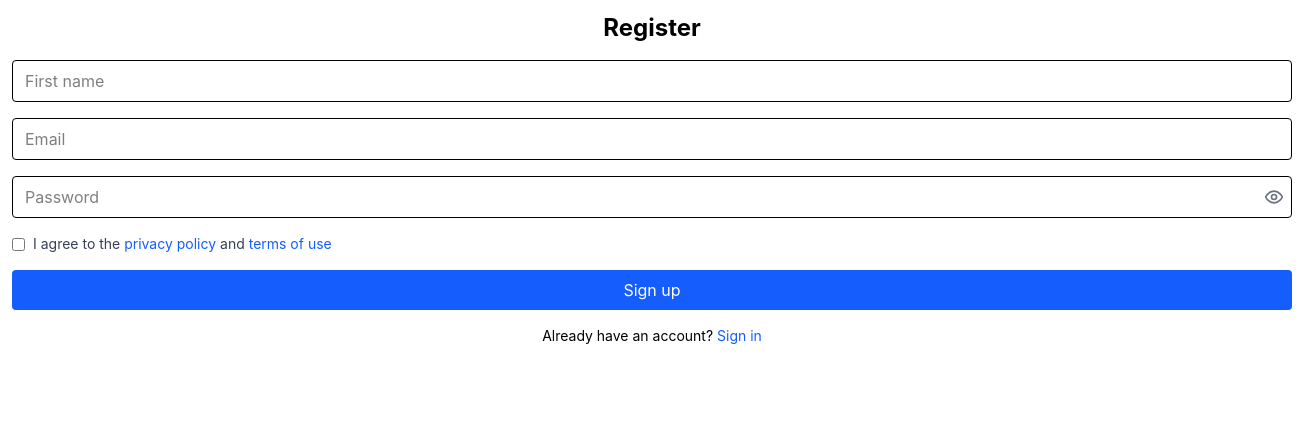
it: RegisterPage › shows validation error for short password
Type "1234567" into the password field with placeholder "Password" at (652,197), box [12,176,1292,218]
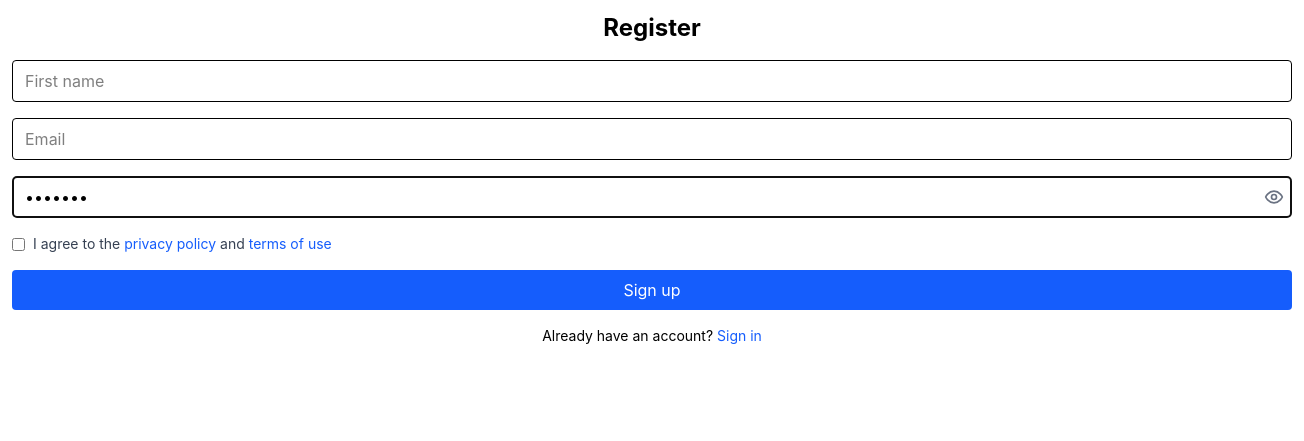
Click the button "Sign up" at (652,290), box [12,270,1292,310]
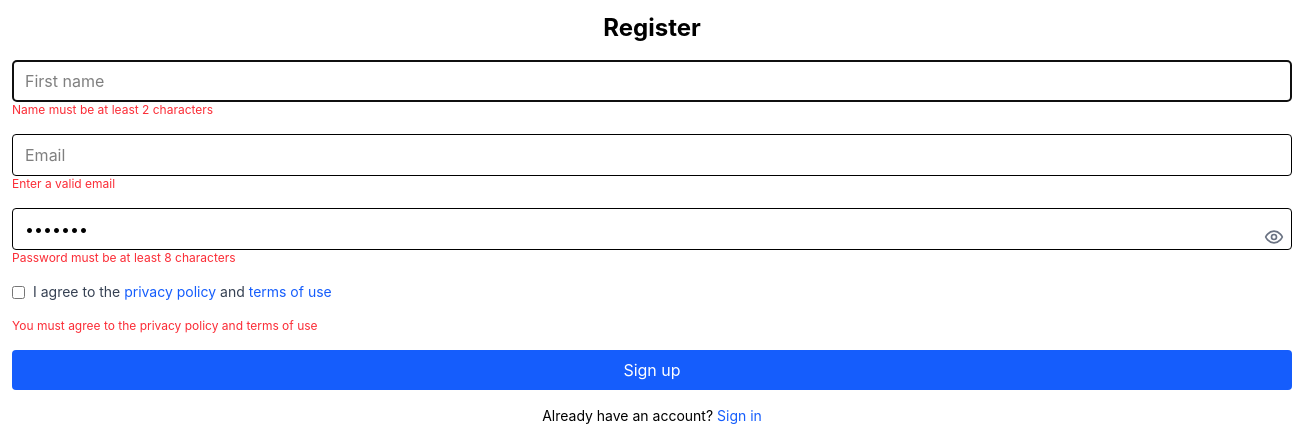
Now the text "Password must be at least 8 characters" is shown, box [12,250,236,265]
